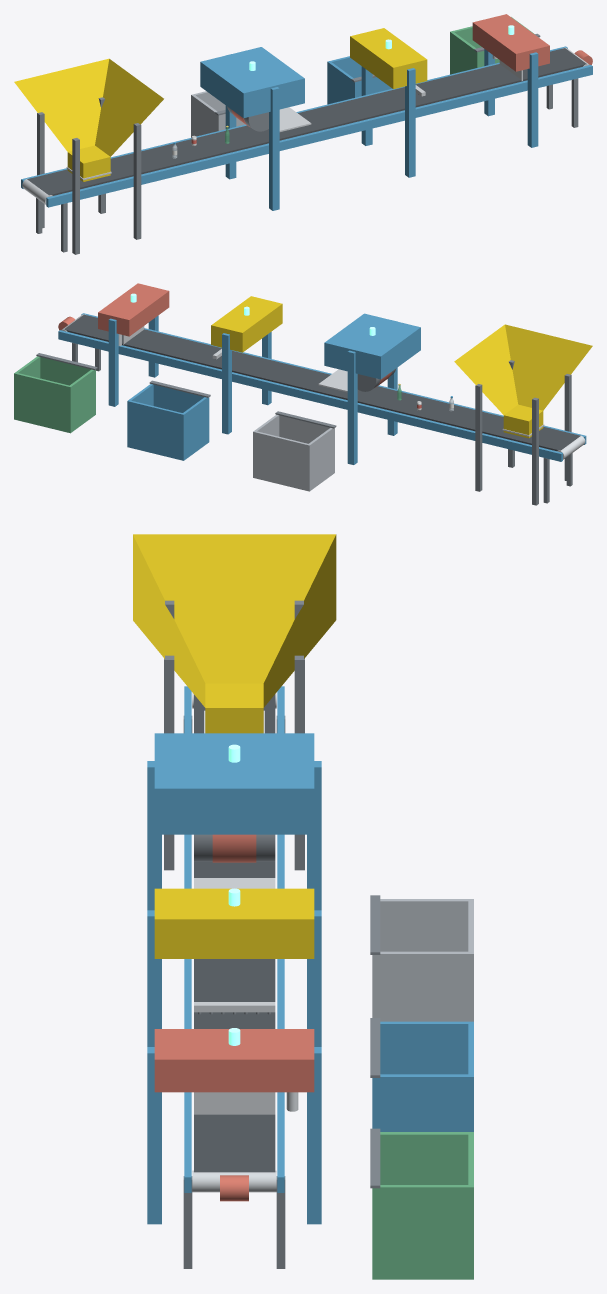
Rendered from planta_vista_previa.glb.
The picture shows the model from 3 angles, top to bottom: view 1: azimuth 30°, elevation 25°; view 2: azimuth 150°, elevation 25°; view 3: azimuth 270°, elevation 25°; orthographic projection. The views are drawn at different scales.
Visible parts, largest first — view 1: banda_banda, tolva_tolva_cuerpo, banda_riel_der, sep_aluminio_carcasa, sep_plastico_carcasa_sensores, sep_vidrio_carcasa_actuador, sep_aluminio_poste_der, sep_plastico_poste_der, sep_vidrio_poste_der, tolva_pata_4, tolva_tolva_boca, tolva_pata_2 (+15 smaller); view 2: banda_banda, tolva_tolva_cuerpo, banda_riel_izq, sep_aluminio_carcasa, cont_plastico_pared_trasera, cont_aluminio_pared_trasera, cont_vidrio_pared_trasera, sep_plastico_carcasa_sensores, sep_vidrio_carcasa_actuador, sep_aluminio_poste_izq, cont_aluminio_pared_izq, cont_plastico_pared_izq (+19 smaller); view 3: tolva_tolva_cuerpo, sep_aluminio_carcasa, banda_banda, sep_plastico_carcasa_sensores, sep_vidrio_carcasa_actuador, cont_vidrio_pared_der, cont_aluminio_pared_der, cont_plastico_pared_der, cont_plastico_pared_izq, cont_aluminio_pared_izq, cont_vidrio_pared_izq, tolva_tolva_boca (+14 smaller).
Boxes of the visible parts, x1,y1,x2,y2 form: banda_banda: (27, 48, 586, 195); tolva_tolva_cuerpo: (14, 58, 163, 156); banda_riel_der: (46, 65, 592, 207); sep_aluminio_carcasa: (200, 47, 304, 118); sep_plastico_carcasa_sensores: (350, 28, 427, 89); sep_vidrio_carcasa_actuador: (472, 14, 549, 71); sep_aluminio_poste_der: (269, 87, 279, 210); sep_plastico_poste_der: (405, 68, 415, 177); sep_vidrio_poste_der: (527, 52, 538, 147); tolva_pata_4: (133, 123, 141, 239); tolva_tolva_boca: (67, 145, 110, 181); tolva_pata_2: (72, 138, 79, 254); banda_banda: (64, 314, 580, 450); tolva_tolva_cuerpo: (454, 324, 592, 414); banda_riel_izq: (58, 330, 562, 461); sep_aluminio_carcasa: (324, 313, 420, 379); cont_plastico_pared_trasera: (127, 400, 185, 460); cont_aluminio_pared_trasera: (253, 430, 310, 491); cont_vidrio_pared_trasera: (14, 372, 71, 433); sep_plastico_carcasa_sensores: (211, 296, 282, 352); sep_vidrio_carcasa_actuador: (98, 283, 169, 336); sep_aluminio_poste_izq: (347, 350, 357, 464); cont_aluminio_pared_izq: (309, 428, 333, 490); cont_plastico_pared_izq: (183, 397, 207, 459); tolva_tolva_cuerpo: (133, 534, 336, 707); sep_aluminio_carcasa: (154, 733, 314, 834); banda_banda: (194, 694, 275, 1172); sep_plastico_carcasa_sensores: (154, 888, 314, 958); sep_vidrio_carcasa_actuador: (154, 1029, 314, 1092); cont_vidrio_pared_der: (378, 1185, 468, 1279); cont_aluminio_pared_der: (378, 951, 468, 1021); cont_plastico_pared_der: (378, 1074, 468, 1131); cont_plastico_pared_izq: (380, 1021, 468, 1074); cont_aluminio_pared_izq: (380, 899, 468, 951); cont_vidrio_pared_izq: (380, 1132, 468, 1184); tolva_tolva_boca: (205, 683, 263, 733).
Size of the model in its own units: 8.15 by 2 by 2.35.
